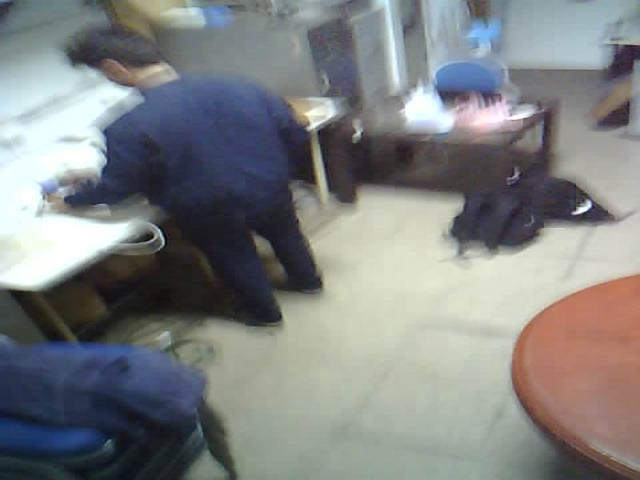person: (41, 22, 347, 348)
